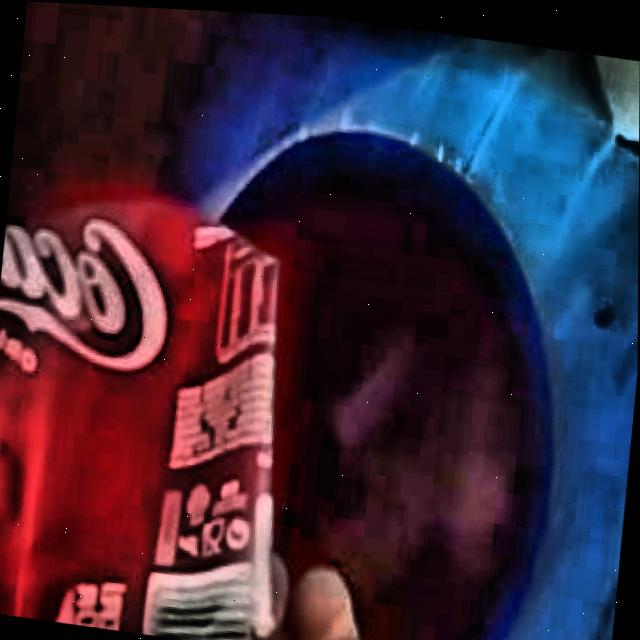metal: (0, 195, 280, 640)
